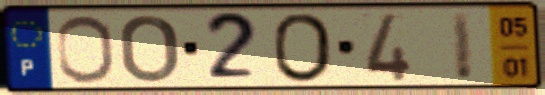2: (200, 9, 266, 87)
4: (362, 10, 416, 84)
I: (448, 10, 477, 84)
O: (269, 10, 336, 85), (117, 12, 181, 85), (54, 13, 118, 86)
